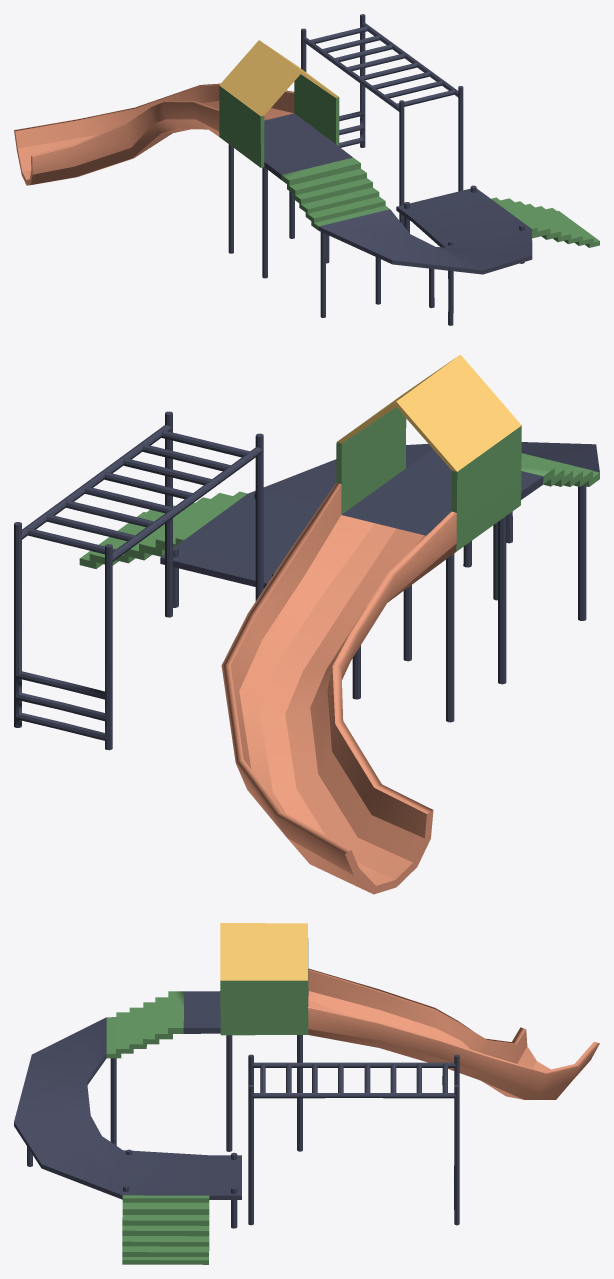
The model's file is playground.fbx.
The picture shows the model from 3 angles, top to bottom: view 1: azimuth 30°, elevation 25°; view 2: azimuth 150°, elevation 25°; view 3: azimuth 270°, elevation 25°; orthographic projection. The views are drawn at different scales.
Parts seen in each view (by area): view 1: pCylinder22, polySurface31; view 2: pCylinder22, polySurface31; view 3: pCylinder22, polySurface31.
Boxes of the visible parts, <box> form: pCylinder22: <box>14,40,599,325</box>; polySurface31: <box>301,14,463,225</box>; pCylinder22: <box>79,354,599,894</box>; polySurface31: <box>14,411,263,750</box>; pCylinder22: <box>14,923,599,1264</box>; polySurface31: <box>248,1054,459,1225</box>.
Size of the model in its own units: 2356 by 1205 by 3014.
